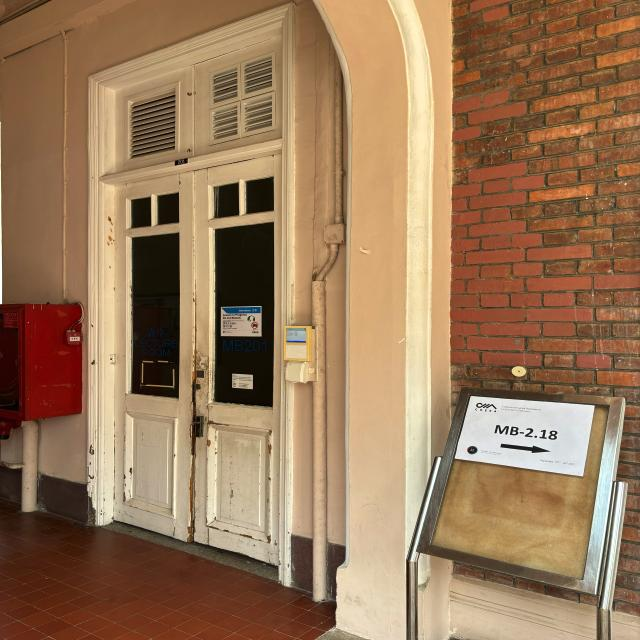MB201_fireHoseReel: (0, 301, 86, 442)
MB201_roomNum: (169, 154, 191, 170)
MB201_windowNum: (220, 338, 270, 355)
